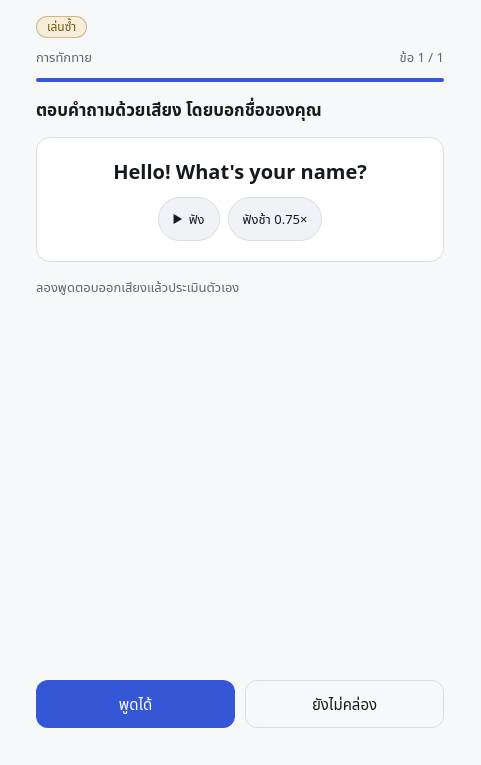
LessonPlayer in practice mode › a whole lesson with only a self-rated answer is stored and counted but has no score
This screenshot has width=481, height=765.
Click the button "พูดได้" at (136, 704), box [36,680,235,728]
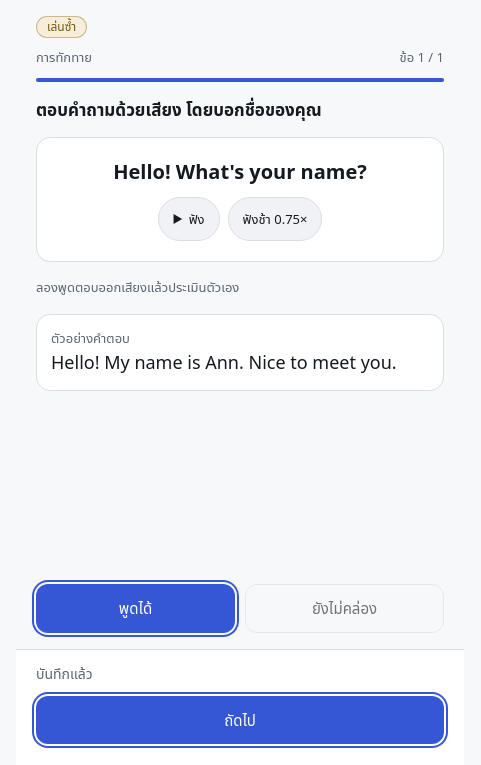
Click the button "ถัดไป" at (240, 720), box [36,696,444,744]
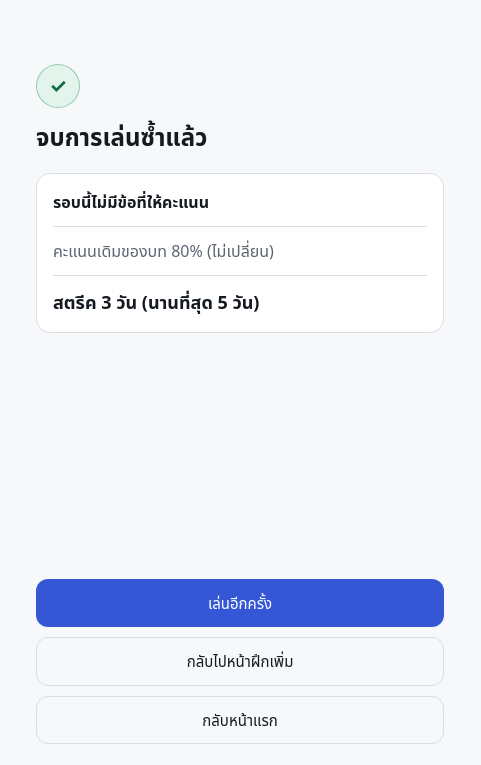
Check: the heading "จบการเล่นซ้ำแล้ว" is shown, box [36,120,207,153]
Check: the text "รอบนี้ไม่มีข้อที่ให้คะแนน" is shown, box [53,178,427,227]
